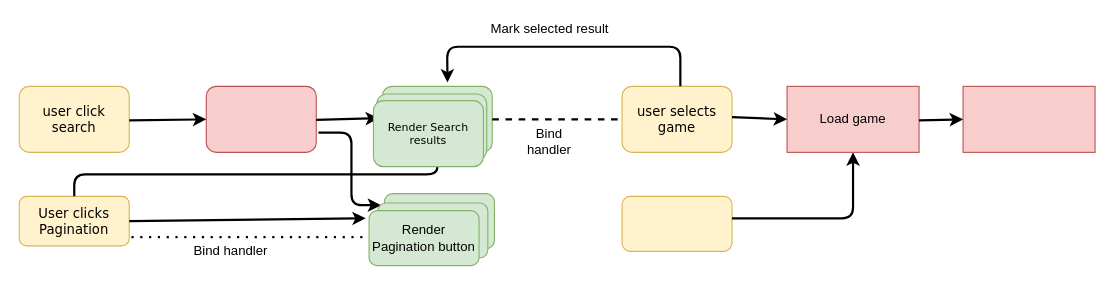
The diagram is 1114 pixels wide and 285 high, and some of its shapes have lost their labels. Each missing label, with the box of its shape:
Load search result: (205, 85, 316, 152)
Page loads with game id: (621, 195, 732, 251)
Render Game: (962, 85, 1095, 152)
